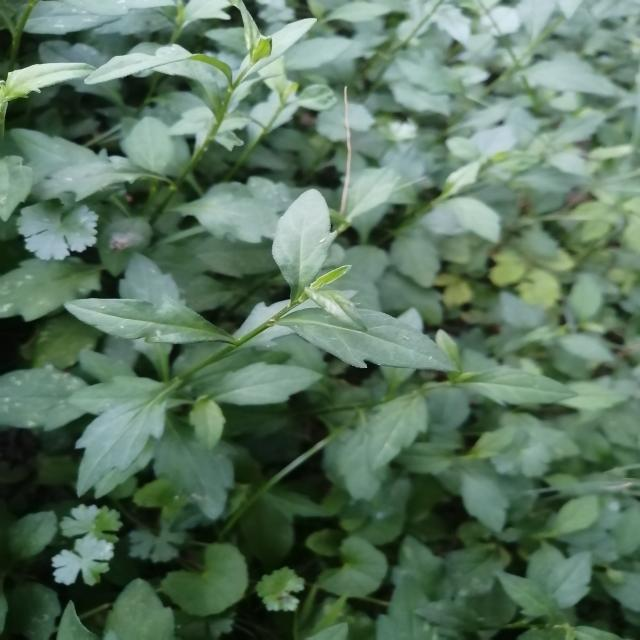Indian aster: (59, 209, 467, 486)
